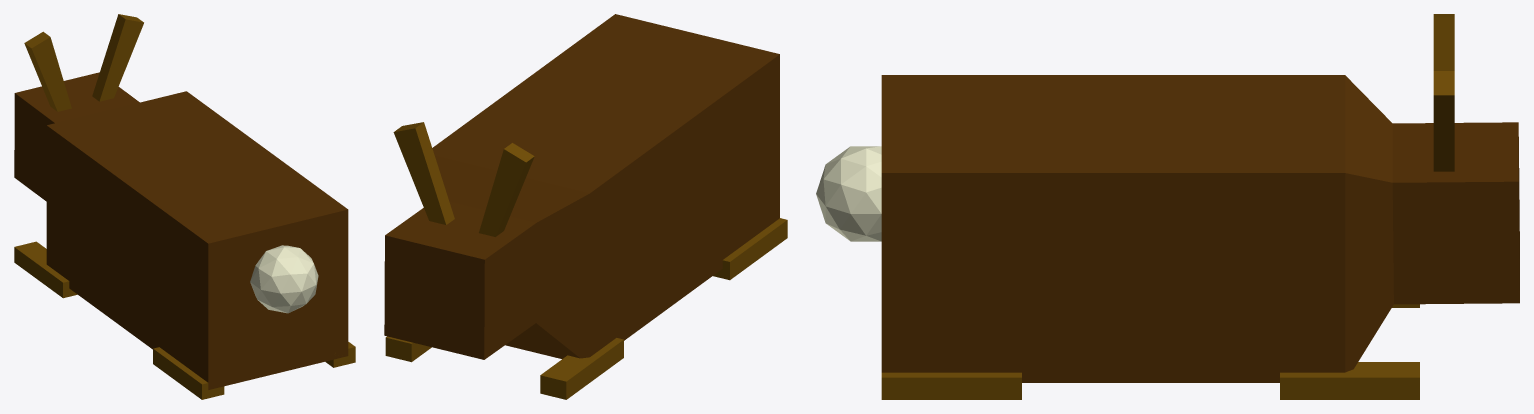
File: rabbit.glb
3 renders of one model, left to right at view 1: azimuth 30°, elevation 25°; view 2: azimuth 150°, elevation 25°; view 3: azimuth 270°, elevation 25°, orthographic. The views are drawn at different scales.
Visible parts, largest first — view 1: Icosphere; view 2: Icosphere; view 3: Icosphere.
Part boxes in pixels (x1,y1,x2,y2): Icosphere: (14, 14, 355, 399); Icosphere: (384, 14, 787, 399); Icosphere: (816, 14, 1519, 399).
Bounding box in the file's own units: 1.1 × 1.45 × 3.04.
